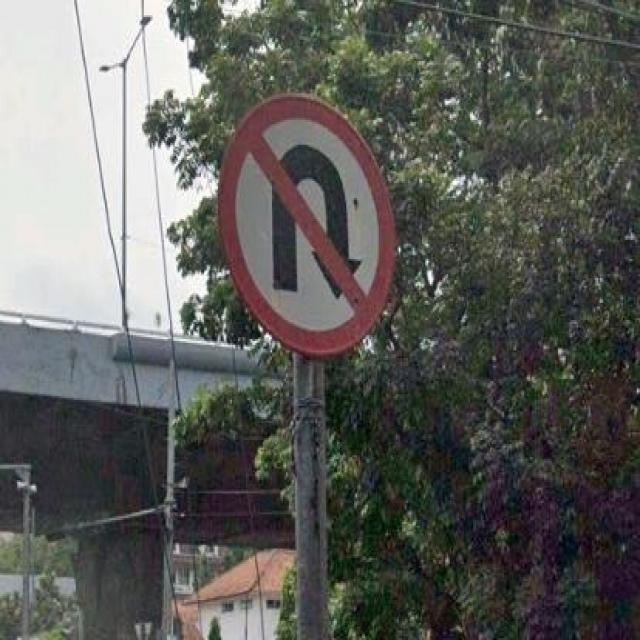traffic sign: (220, 107, 392, 352)
